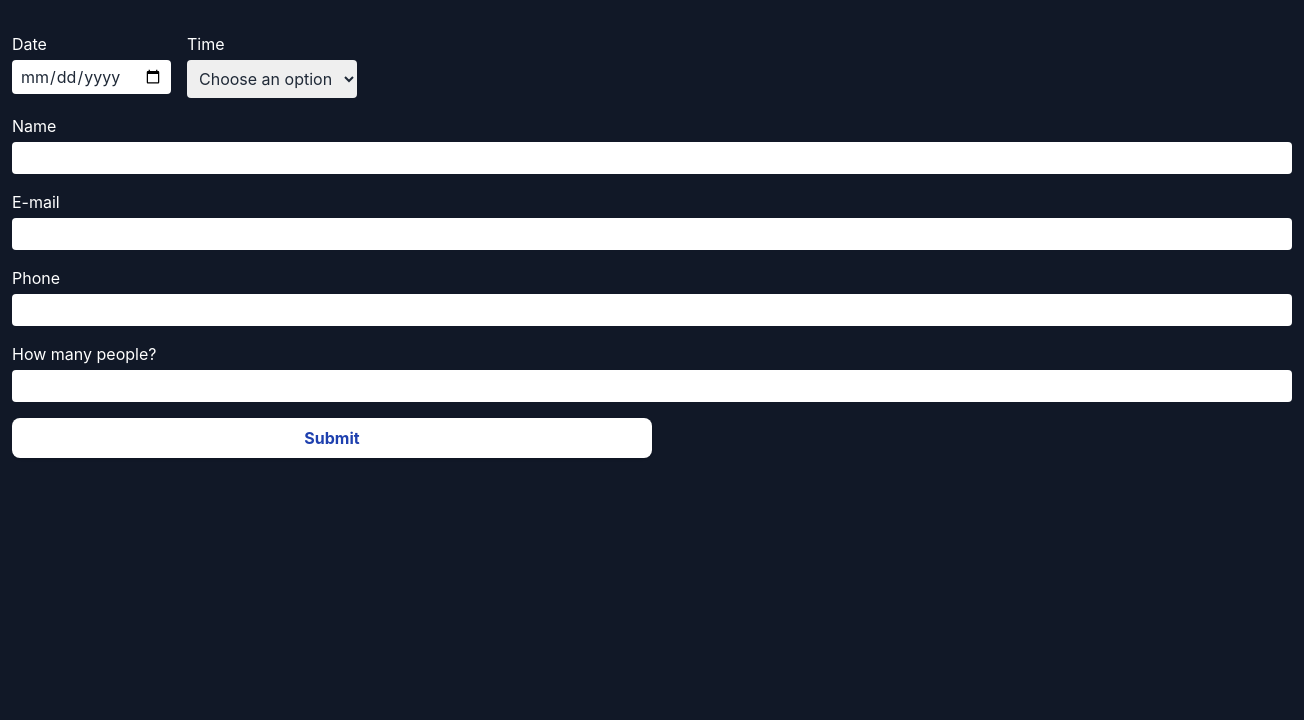
Test case: Error add new reservation
This screenshot has width=1304, height=720.
Click the button with test id "submit-button" at (332,438), box left=12, top=418, right=652, bottom=458
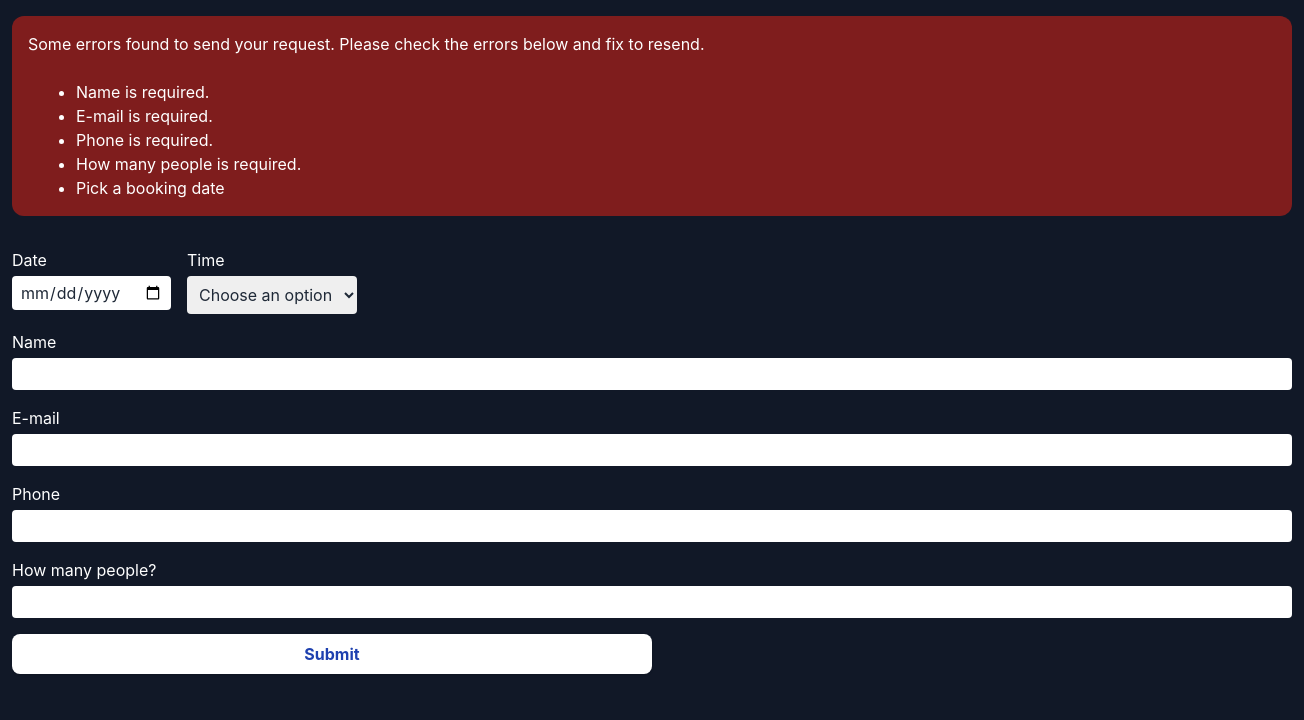
expect the text "Some errors found to send your request. Please check the errors below and fix to resend." is shown: met, box left=28, top=34, right=704, bottom=54
